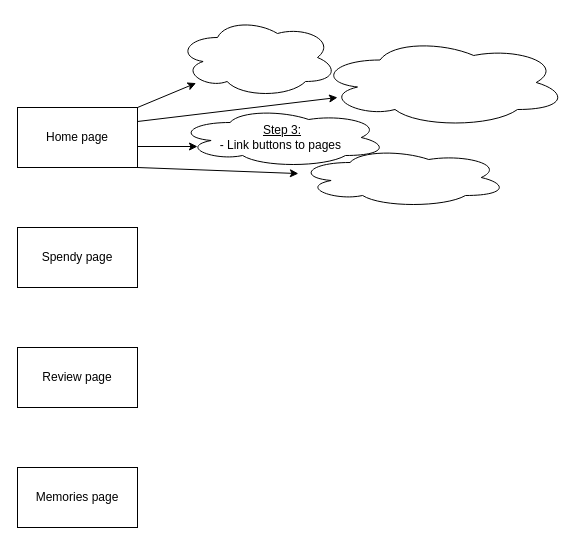
The diagram is 585 pixels wide and 545 high, and some of its shapes have lost their labels. The centre of each missing label's shape, as x and y in pixels:
Step 1: - Mock all pages first: point 257,57
Step 2: - Mock 4 buttons for home page: point 442,82
Step 4: - Style buttons - Add text and style: point 402,177
